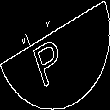P_NW: (35, 24, 75, 86)
